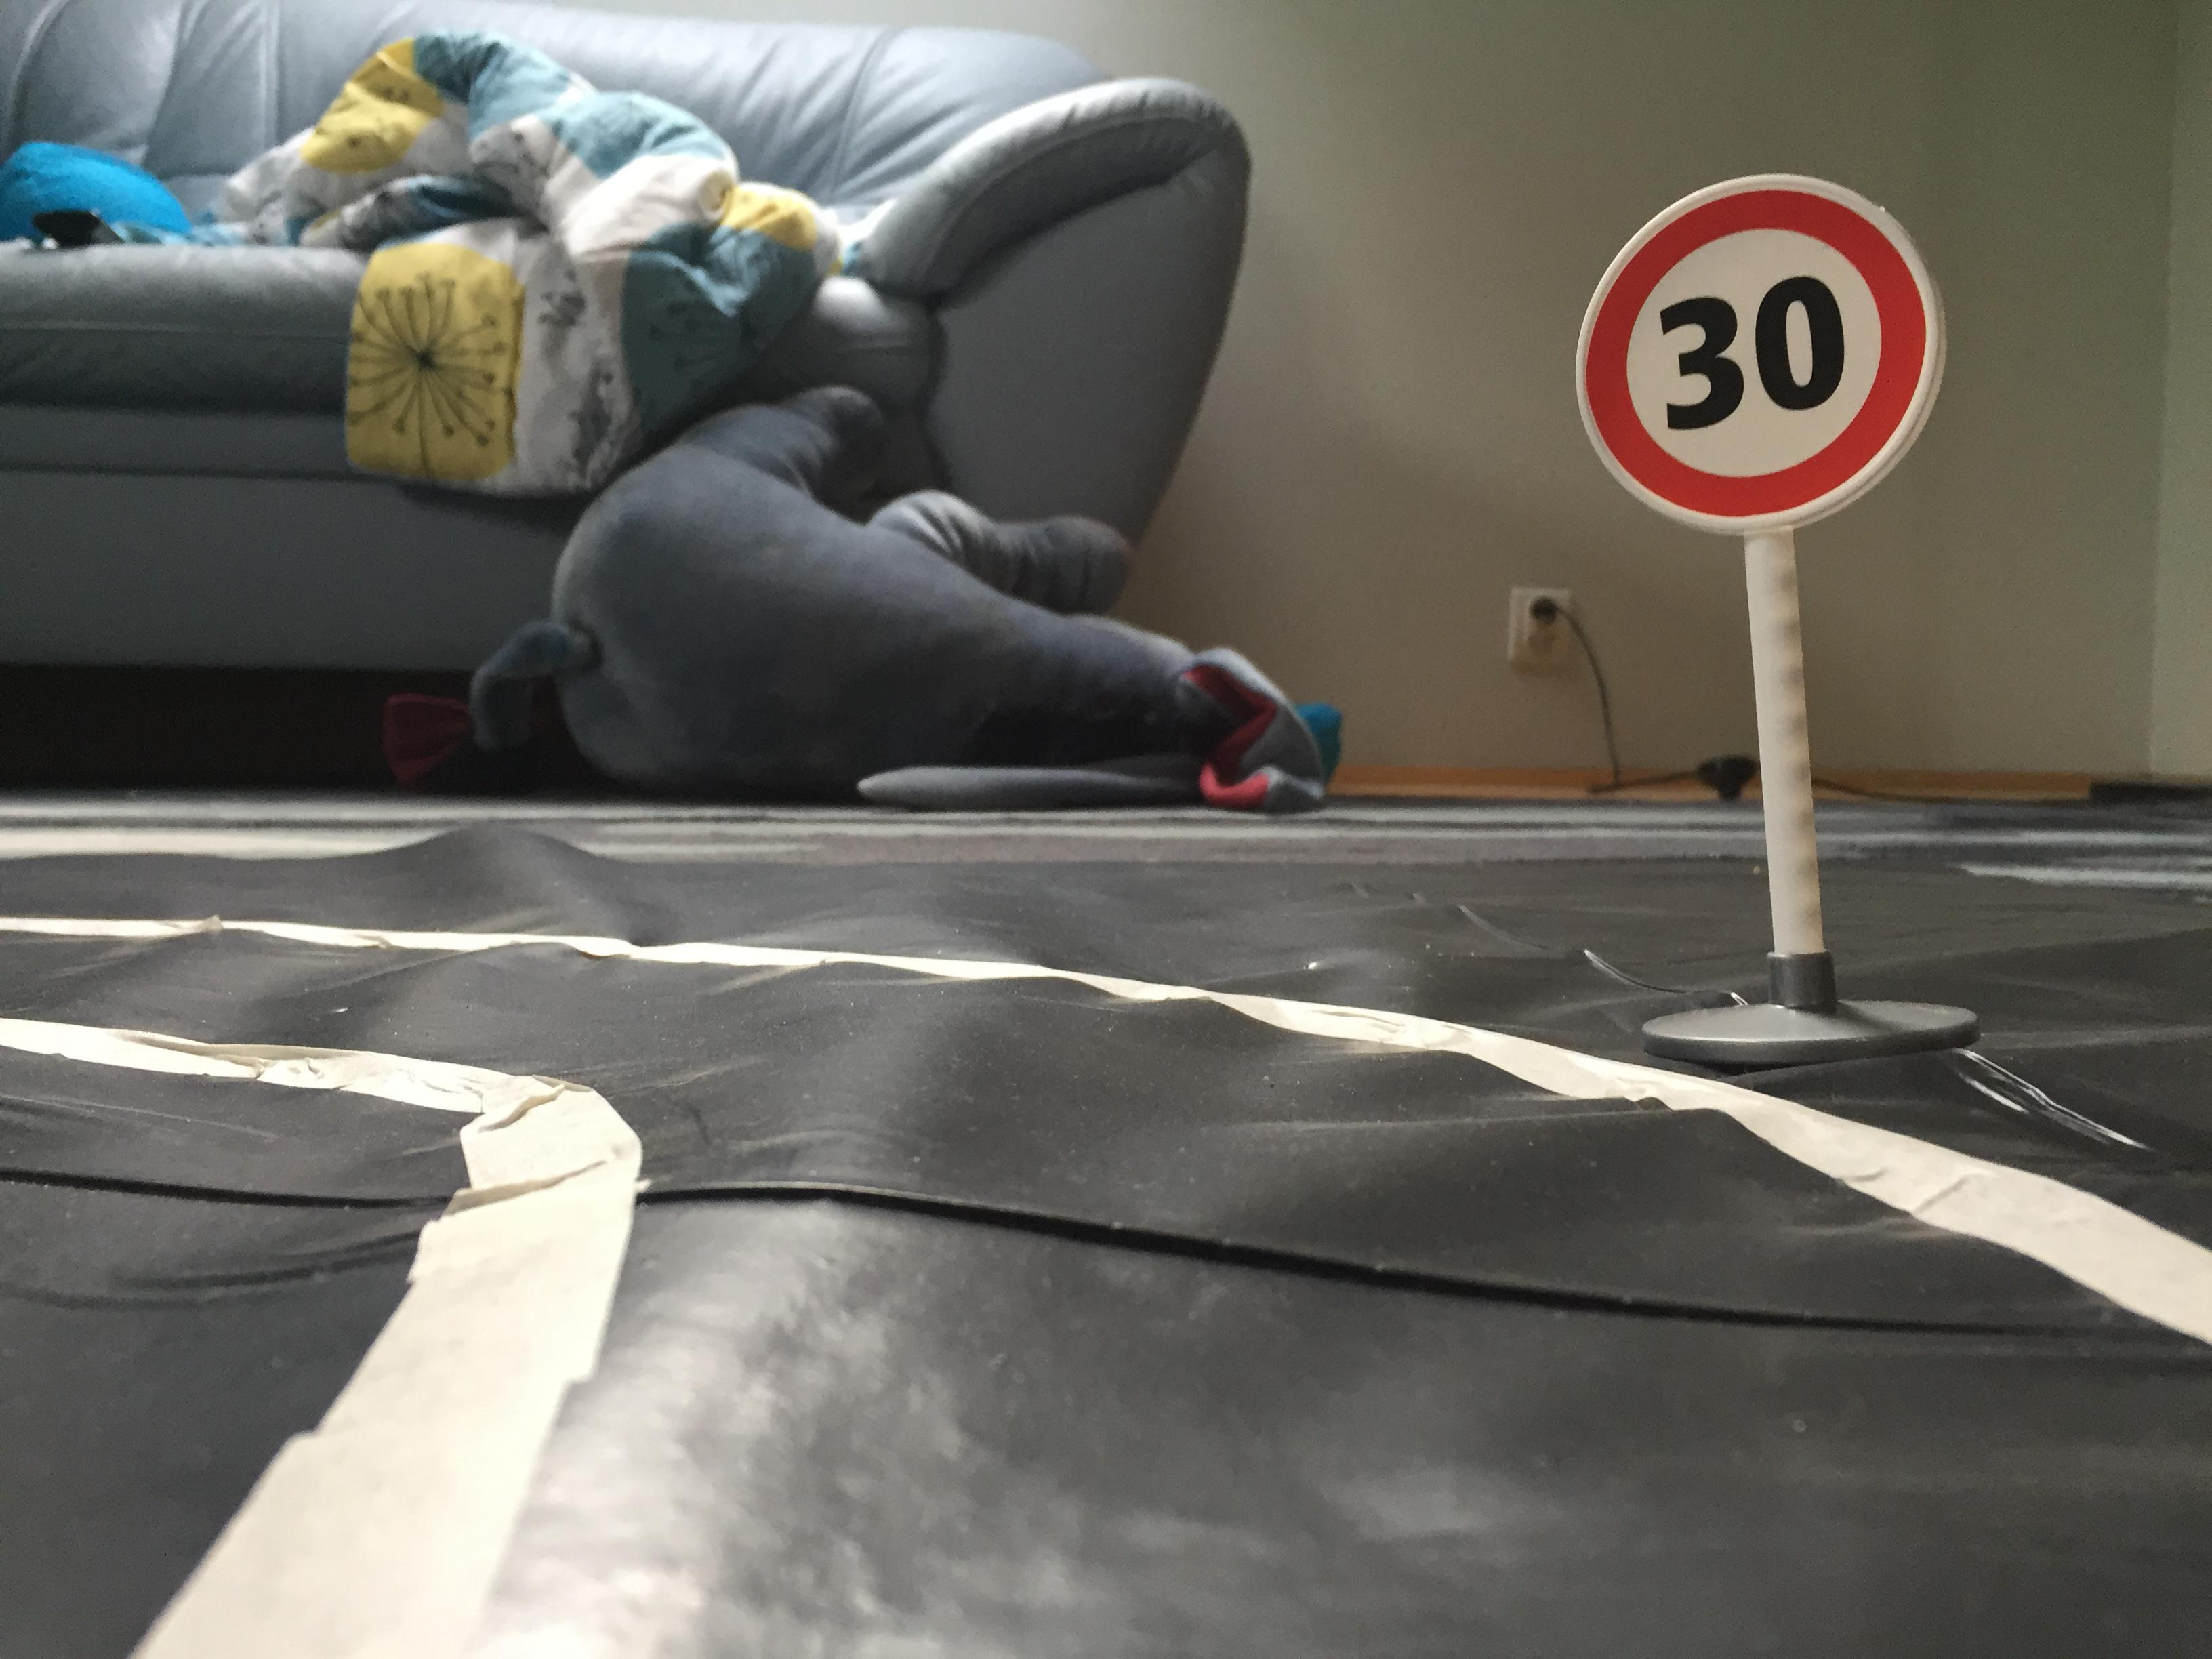speed: (1564, 162, 1970, 545)
